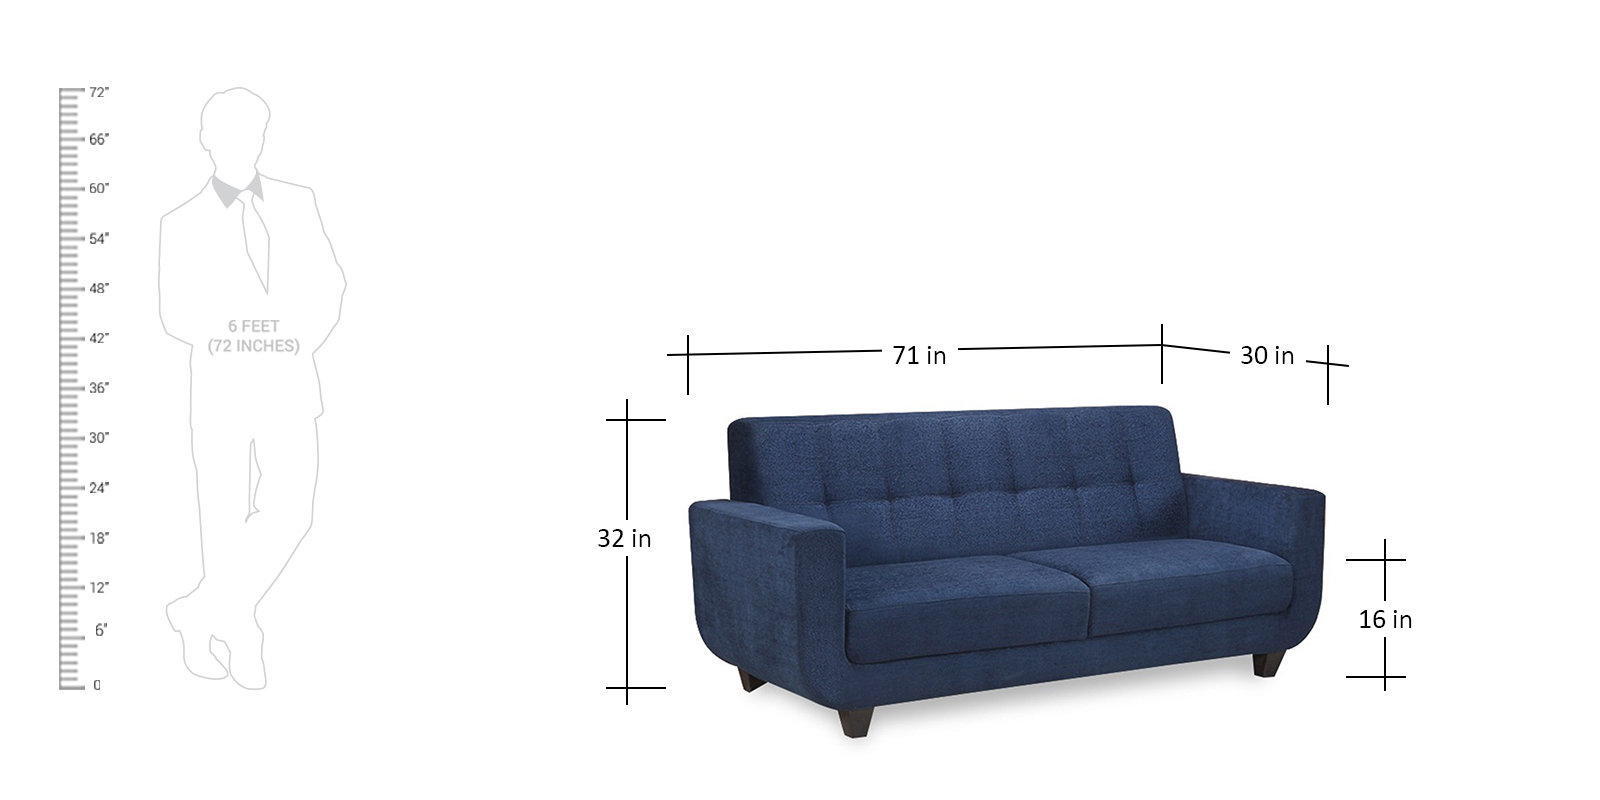Berlin Three Seater Sofa in Blue Colour by Crystal Furnitech: (685, 408, 1335, 701)
